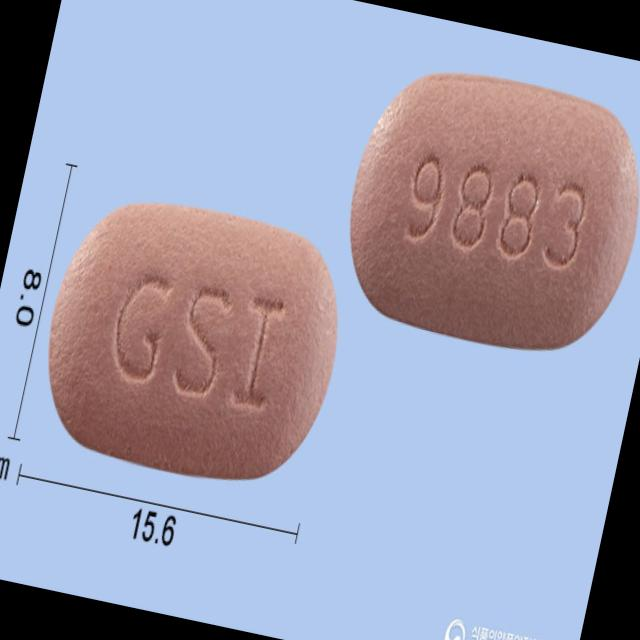Biktarvy: (21, 179, 364, 505)
